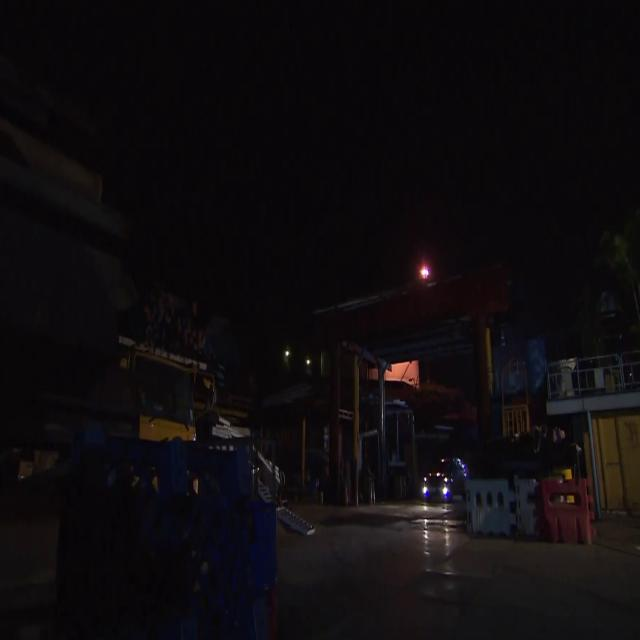Car: (106, 332, 212, 477)
